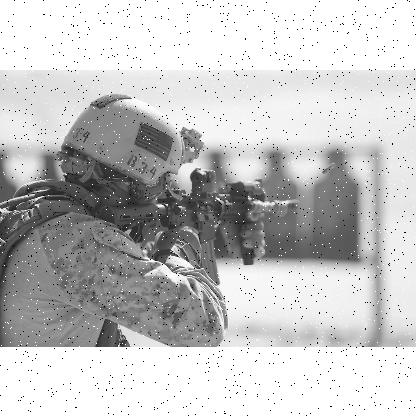gun: (96, 169, 300, 283)
